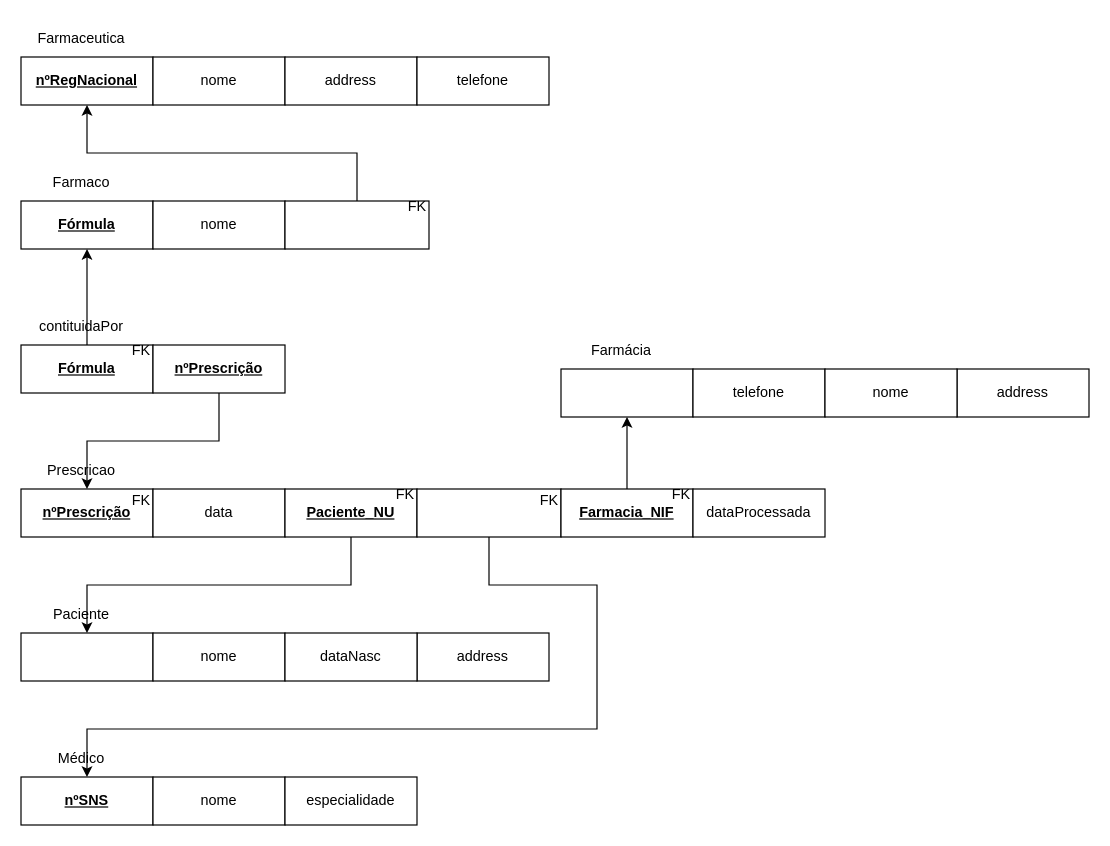
Some shapes in this 1110 by 846 pixel diagram are drawn without their labels. The box of each missing label's shape, as (x1, y1, x2, y2) in pixels:
Farm_nºRegNacional: (284, 200, 429, 249)
Medico_nºSNS: (416, 488, 561, 537)
NIF: (560, 368, 693, 417)
nºUtente: (20, 632, 153, 681)
